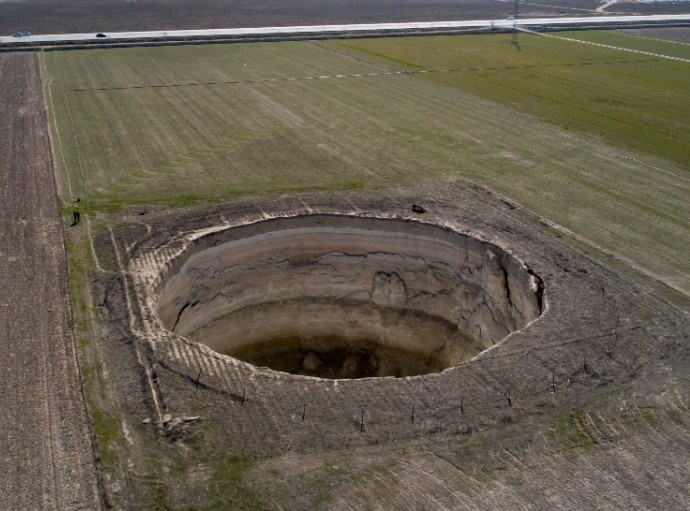pothole: (142, 151, 547, 398)
